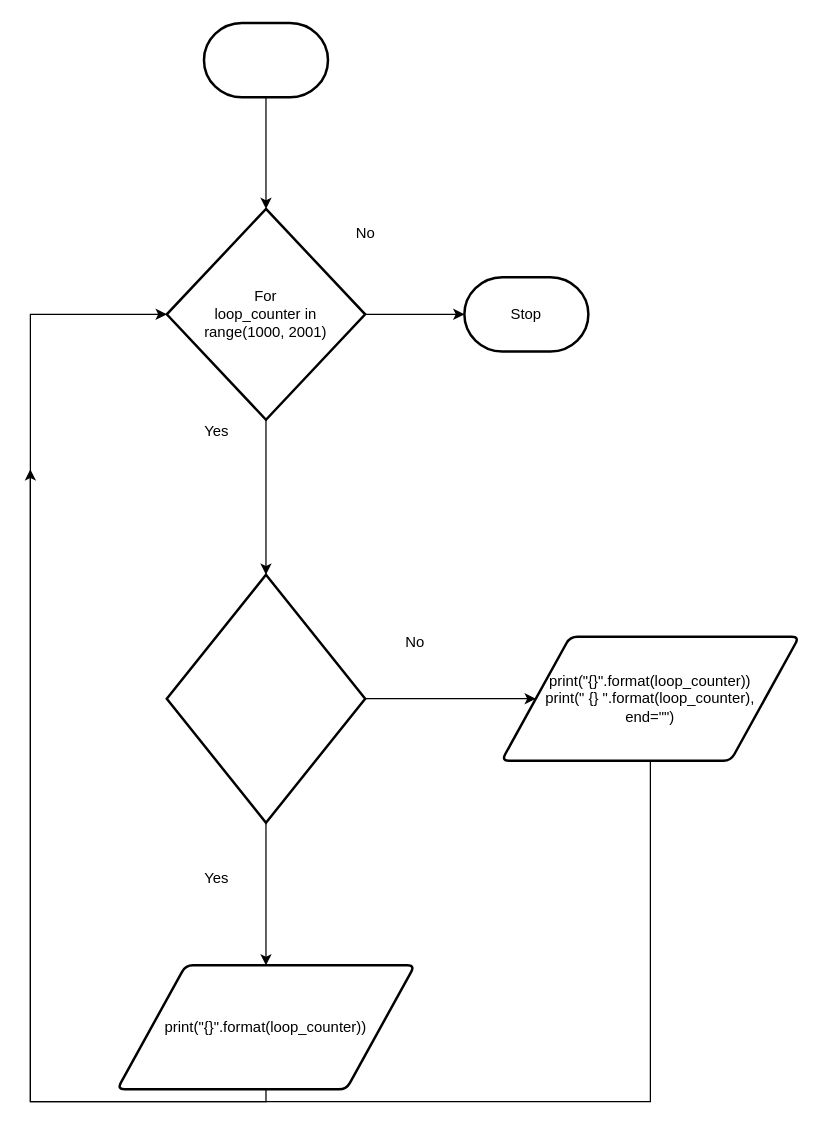
This 822x1133 diagram has some shape labels left out. The centre of each missing label's shape, as x and y in pixels:
if loop_counter % 5 == 4: the point at 265,698
Start: the point at 265,59
